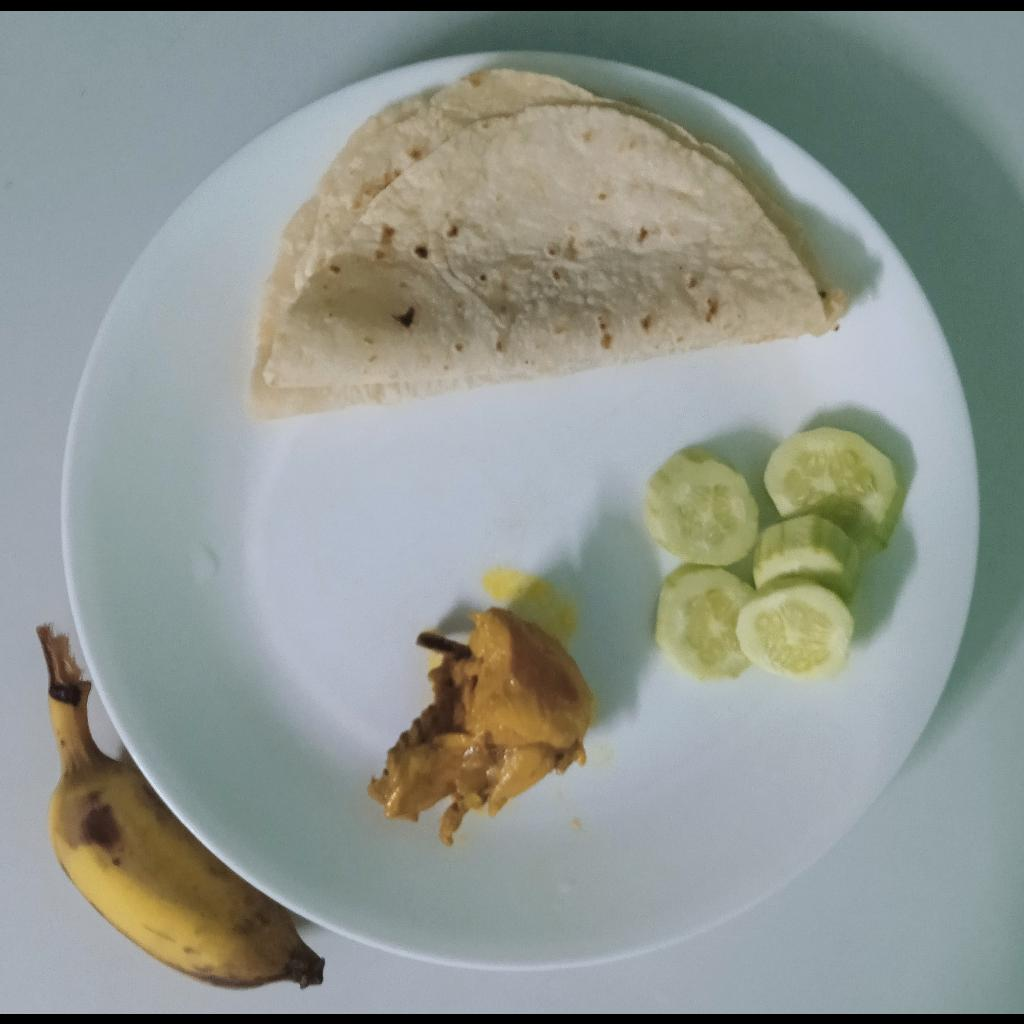banana: (35, 623, 327, 988)
chicken: (368, 612, 593, 843)
cucumber: (644, 425, 908, 684)
ruti: (245, 69, 850, 423)
